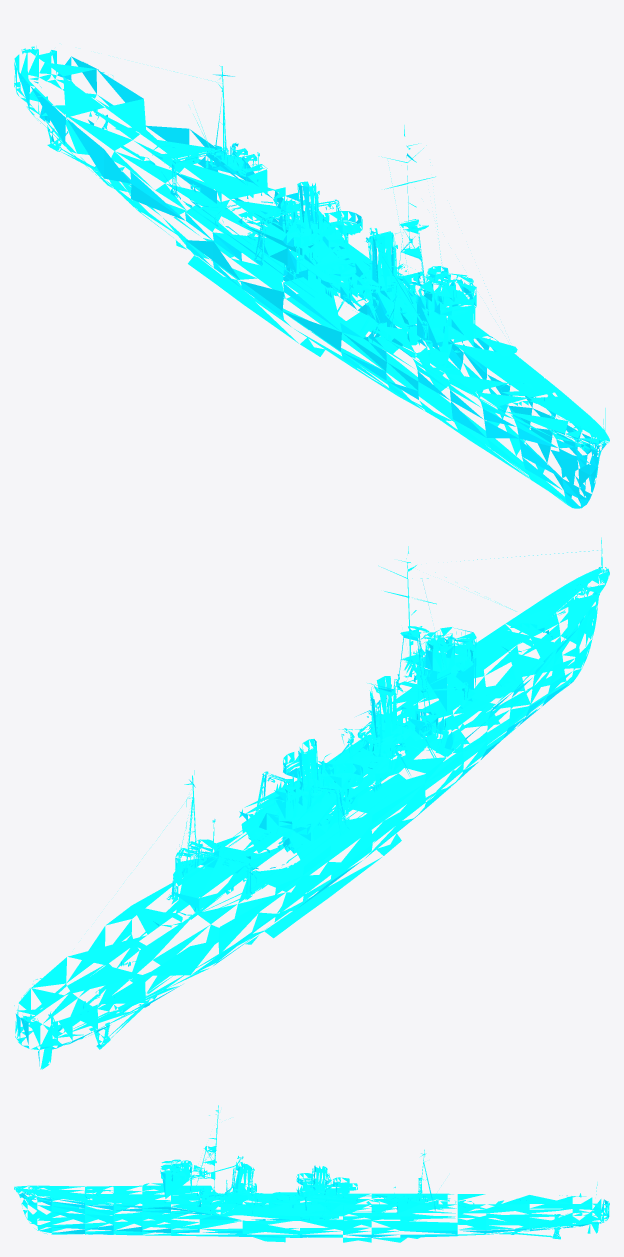
Rendered from Shiratsuyu.glb.
3 views of the same model, one above another, from view 1: azimuth 30°, elevation 25°; view 2: azimuth 150°, elevation 25°; view 3: azimuth 270°, elevation 25° (orthographic). The views are drawn at different scales.
Bounding box in the file's own units: 0.6625 × 1.84 × 7.31.
